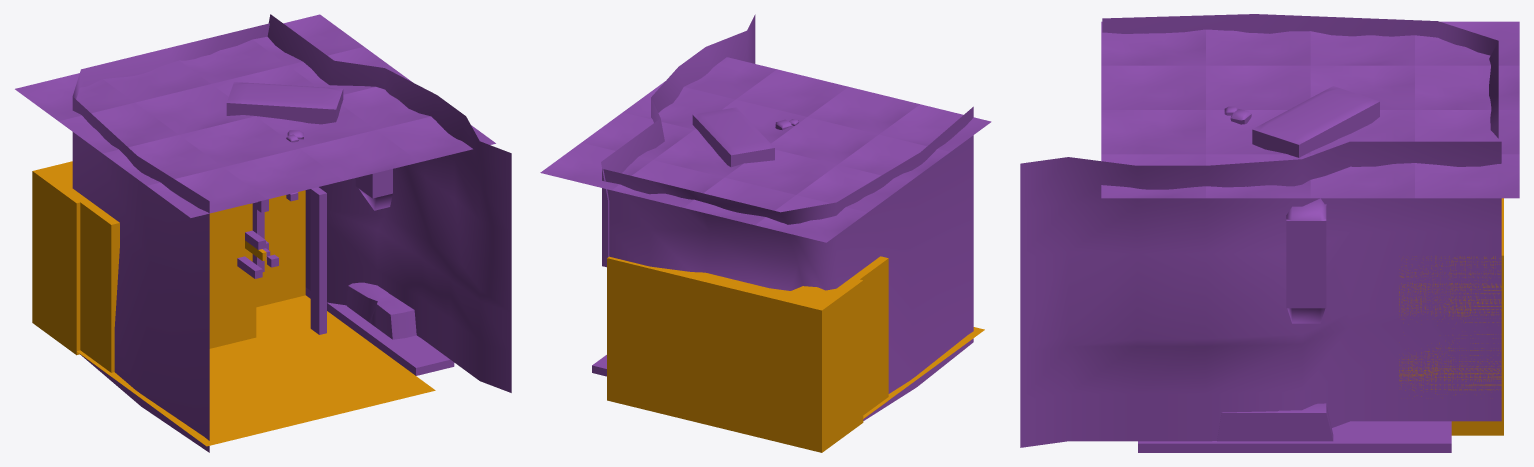
File: lava_fall.fbx
3 views of the same model, side by side, from view 1: azimuth 30°, elevation 25°; view 2: azimuth 150°, elevation 25°; view 3: azimuth 270°, elevation 25° (orthographic). The views are drawn at different scales.
Parts seen in each view (by area): view 1: env; view 2: env; view 3: env.
Part boxes in pixels (x1,y1,x2,y2): env: [15, 14, 511, 452]; env: [540, 14, 991, 452]; env: [1020, 14, 1519, 452].
Bounding box in the file's own units: 400 × 325 × 478.
1 material, 1 textured.
